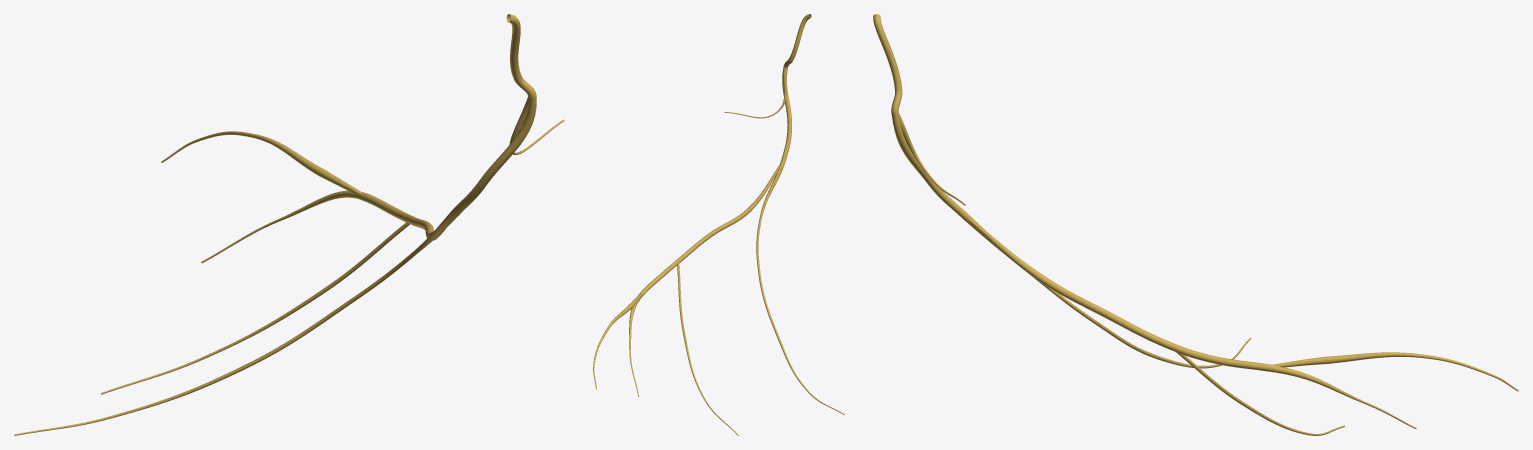
3 renders of one model, left to right at view 1: azimuth 30°, elevation 25°; view 2: azimuth 150°, elevation 25°; view 3: azimuth 270°, elevation 25°, orthographic. The views are drawn at different scales.
Parts seen in each view (by area): view 1: 左侧胸外侧神经; view 2: 左侧胸外侧神经; view 3: 左侧胸外侧神经.
Part boxes in pixels (x1,y1,x2,y2): 左侧胸外侧神经: (14,14,564,435); 左侧胸外侧神经: (593,14,844,435); 左侧胸外侧神经: (873,14,1518,435).
Size of the model in its own units: 0.1529 by 0.2061 by 0.2556.
